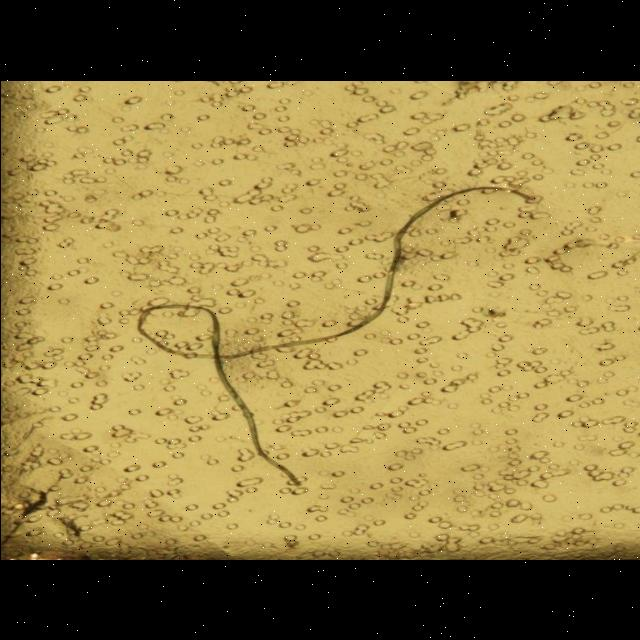Fibre: (137, 183, 546, 487)
